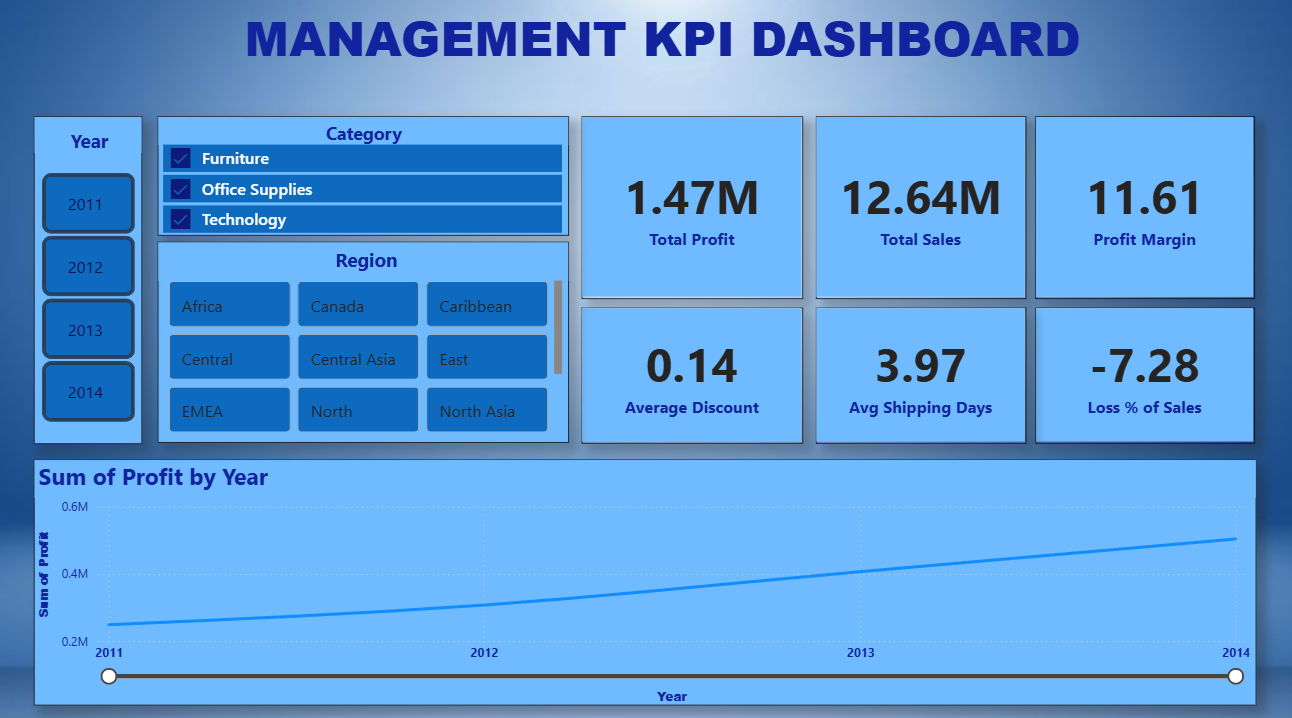

The dashboard page shown, as its layout file describes it:
{"tool":"powerbi","page":{"name":"Management KPI Dashboard","canvas":[1280,720],"ordinal":5},"visuals":[{"type":"cardVisual","fields":{"Data":["superstore_dataset.Total Profit"]},"box":[577.8,122.9,218.3,179.8],"z":0},{"type":"cardVisual","fields":{"Data":["superstore_dataset.Total Sales"]},"box":[809,122.9,207.3,179.8],"z":1000},{"type":"cardVisual","fields":{"Data":["superstore_dataset.Profit Margin"]},"box":[1025.4,122.9,216.5,179.8],"z":2000},{"type":"cardVisual","fields":{"Data":["superstore_dataset.Average Discount"]},"box":[577.8,311.8,218.3,133.9],"z":3000},{"type":"cardVisual","fields":{"Data":["superstore_dataset.Loss % of Sales"]},"box":[1025.4,311.8,216.5,133.9],"z":4000},{"type":"cardVisual","fields":{"Data":["superstore_dataset.Avg Shipping Days"]},"box":[809,311.8,207.3,133.9],"z":5000},{"type":"lineChart","fields":{"Category":["superstore_dataset.Order Date.Variation.Date Hierarchy.Year","superstore_dataset.Order Date.Variation.Date Hierarchy.Month"],"Y":["Sum(superstore_dataset.Profit)"]},"box":[36.7,462.3,1205.2,242.1],"z":6000},{"type":"textbox","title":"MANAGEMENT KPI DASHBOARD","box":[209.1,12.8,895.2,110.1],"z":7000},{"type":"listSlicer","fields":{"Values":["superstore_dataset.Category"]},"box":[159.6,122.9,405.4,117.4],"z":8000},{"type":"advancedSlicerVisual","fields":{"Values":["superstore_dataset.Region"]},"box":[159.6,247.6,405.4,198.1],"z":9000},{"type":"advancedSlicerVisual","fields":{"Values":["superstore_dataset.Order Date.Variation.Date Hierarchy.Year"]},"box":[36.7,122.9,106.4,322.9],"z":10000}]}

Visuals, with their boxes in screenshot pixels (x1, y1, x2, y2), scaled from the page's 1280x720 canvas onto the 1292x718 screenshot:
cardVisual - superstore_dataset.Total Profit: 583,123,804,302
cardVisual - superstore_dataset.Total Sales: 817,123,1026,302
cardVisual - superstore_dataset.Profit Margin: 1035,123,1254,302
cardVisual - superstore_dataset.Average Discount: 583,311,804,444
cardVisual - superstore_dataset.Loss % of Sales: 1035,311,1254,444
cardVisual - superstore_dataset.Avg Shipping Days: 817,311,1026,444
lineChart - superstore_dataset.Order Date.Variation.Date Hierarchy.Year x superstore_dataset.Order Date.Variation.Date Hierarchy.Month: 37,461,1254,702
"MANAGEMENT KPI DASHBOARD" textbox: 211,13,1115,123
listSlicer - superstore_dataset.Category: 161,123,570,240
advancedSlicerVisual - superstore_dataset.Region: 161,247,570,444
advancedSlicerVisual - superstore_dataset.Order Date.Variation.Date Hierarchy.Year: 37,123,144,445
